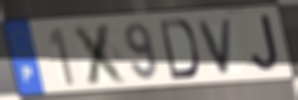1: (48, 26, 76, 88)
9: (122, 21, 159, 82)
D: (158, 18, 201, 82)
J: (250, 12, 281, 74)
V: (196, 16, 235, 77)
X: (70, 20, 131, 86)
